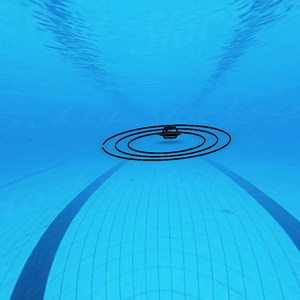circle: (102, 125, 232, 159)
submarine: (159, 126, 183, 140)
